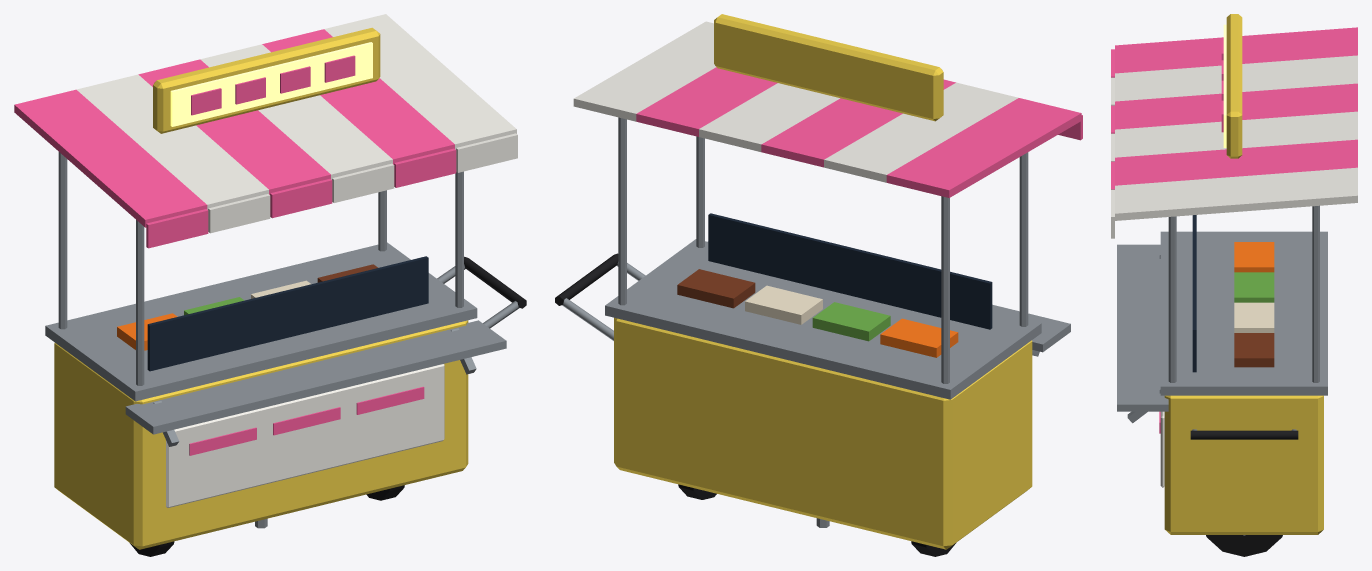
File: food_cart.glb
The picture shows the model from 3 angles, left to right: view 1: azimuth 30°, elevation 25°; view 2: azimuth 150°, elevation 25°; view 3: azimuth 270°, elevation 25°; orthographic projection. The views are drawn at different scales.
Visible parts, largest first — view 1: food_cart; view 2: food_cart; view 3: food_cart.
Boxes of the visible parts, x1=… form: food_cart: x1=14, y1=14, x2=526, y2=556; food_cart: x1=555, y1=14, x2=1082, y2=556; food_cart: x1=1111, y1=14, x2=1357, y2=556.
Bounding box in the file's own units: 2.27 × 2.44 × 1.24.
